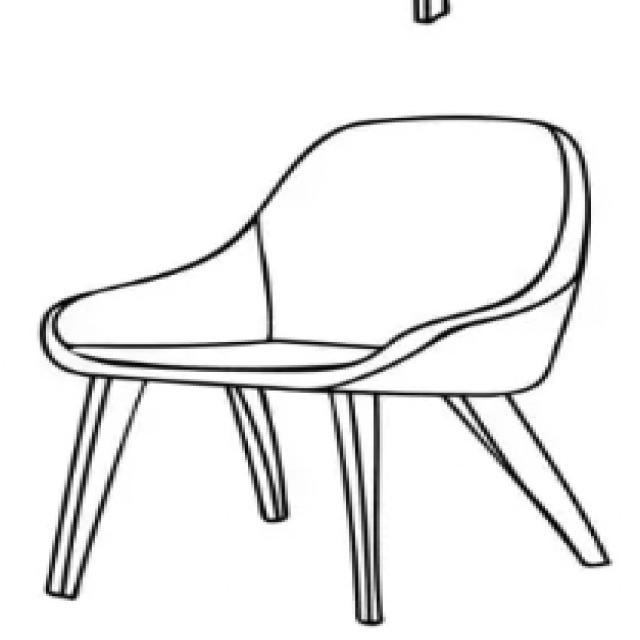Armrest: (330, 255, 591, 396), (38, 208, 274, 347)
Backrest: (253, 116, 591, 351)
Leg_Structure: (34, 365, 630, 631)
Seat: (60, 337, 387, 371)
